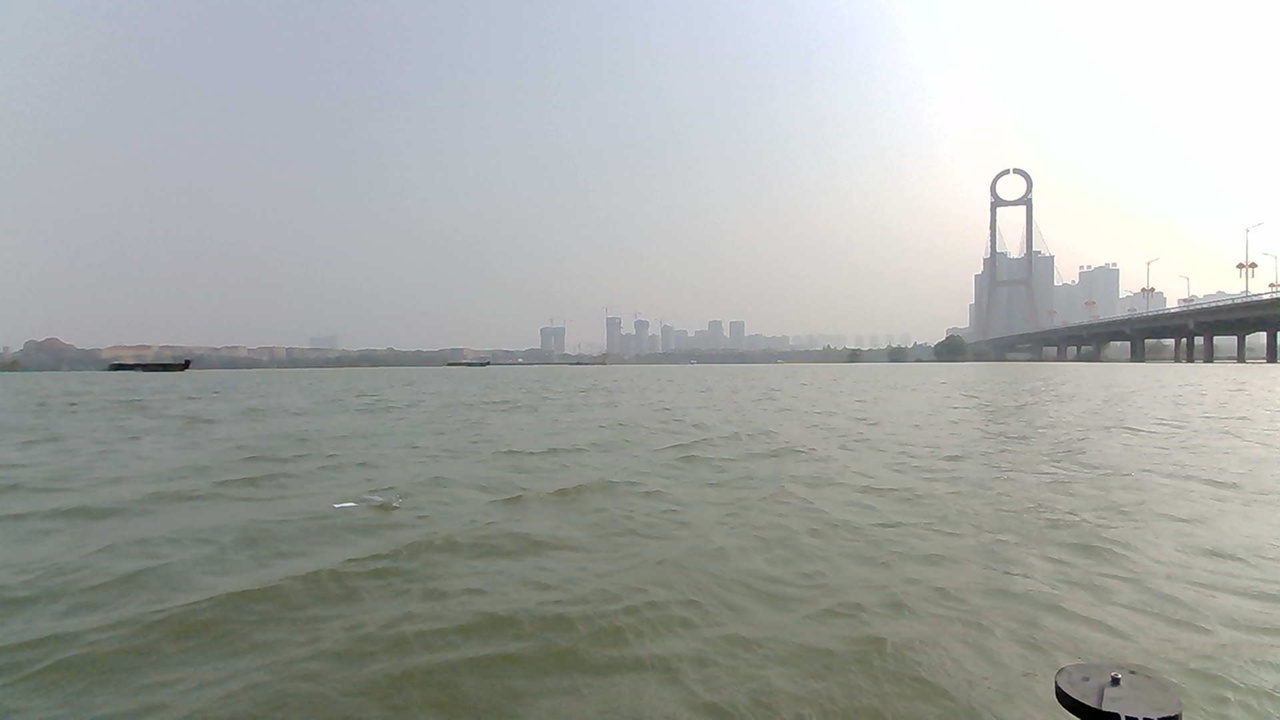bottle: (308, 496, 438, 552)
